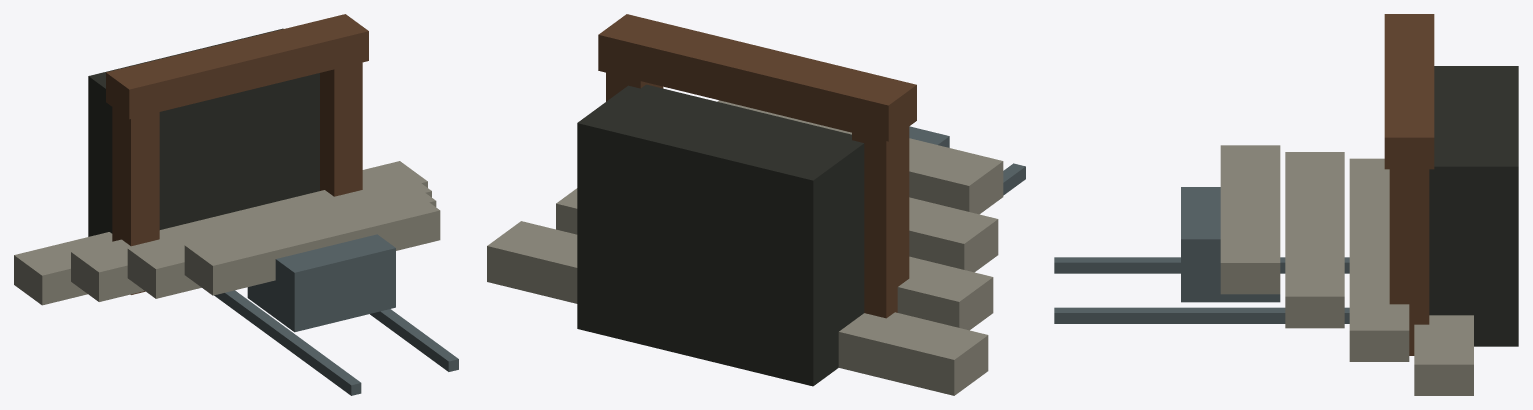
Rendered from custom-imp-ironmine.glb.
3 views of the same model, side by side, from view 1: azimuth 30°, elevation 25°; view 2: azimuth 150°, elevation 25°; view 3: azimuth 270°, elevation 25° (orthographic). The views are drawn at different scales.
Parts seen in each view (by area): view 1: custom-imp-ironmine; view 2: custom-imp-ironmine; view 3: custom-imp-ironmine.
Boxes of the visible parts, x1=… form: custom-imp-ironmine: x1=14, y1=14, x2=458, y2=395; custom-imp-ironmine: x1=487, y1=14, x2=1025, y2=395; custom-imp-ironmine: x1=1054, y1=14, x2=1518, y2=395.
Bounding box in the file's own units: 1 × 0.5158 × 0.9842.
